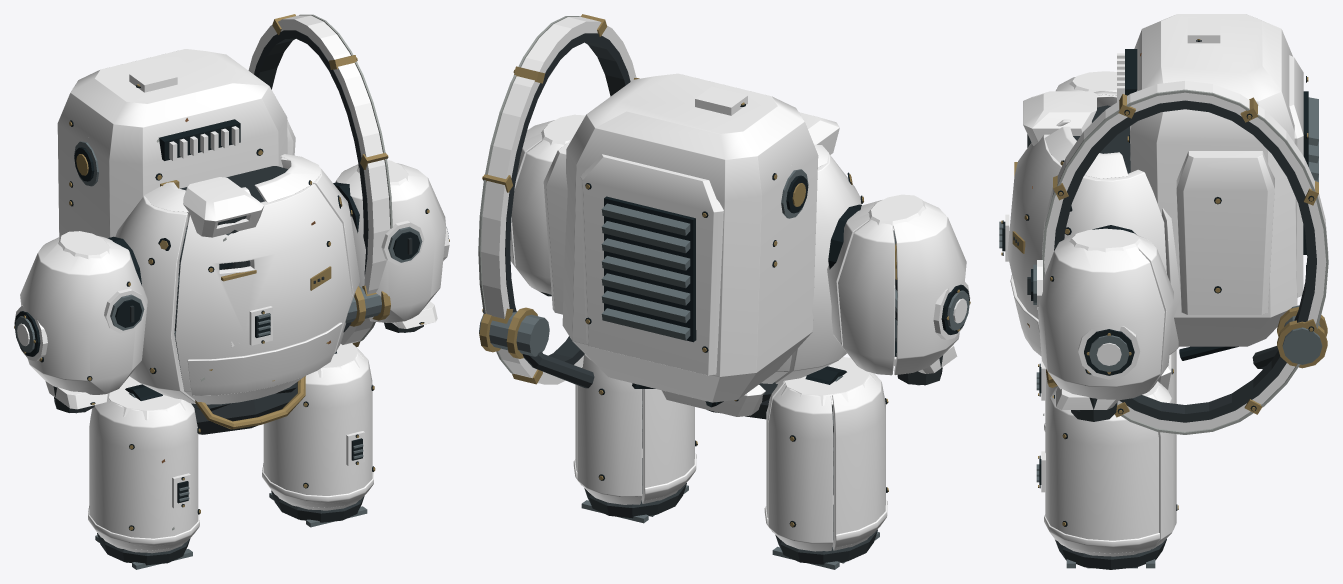
Rendered from mechanical-citizens-blue-barrel-heavy-v2.glb.
3 renders of one model, left to right at view 1: azimuth 30°, elevation 25°; view 2: azimuth 150°, elevation 25°; view 3: azimuth 270°, elevation 25°, orthographic. The views are drawn at different scales.
Visible parts, largest first — view 1: PLATE_power_backpack_main, PLATE_barrel_breastplate, PLATE_arm_pod.R, PLATE_leg_barrel.R, PLATE_leg_barrel.L, PLATE_arm_pod.L, PLATE_orange_back_hoop, PLATE_barrel_flank.R, CORE_chest, PLATE_buried_sensor_shroud, CORE_pelvis, PLATE_barrel_flank.L (+6 smaller); view 2: PLATE_power_backpack_main, PLATE_backpack_radiator_door, PLATE_arm_pod.R, PLATE_orange_back_hoop, PLATE_leg_barrel.R, PLATE_leg_rear_case.R, PLATE_leg_rear_case.L, CORE_chest, PLATE_arm_rear_strip.R, PLATE_barrel_flank.R, PLATE_leg_barrel.L, PLATE_arm_rear_strip.L (+7 smaller); view 3: PLATE_power_backpack_main, PLATE_arm_pod.L, PLATE_leg_barrel.L, PLATE_backpack_side_cassette, PLATE_orange_back_hoop, CORE_chest, PLATE_barrel_breastplate, PLATE_barrel_flank.L, PLATE_backpack_radiator_door, PLATE_buried_sensor_shroud, PLATE_leg_rear_case.L, PLATE_upper_collar.L (+7 smaller).
Part boxes in pixels (box(x1,y1,x2,y2)): PLATE_power_backpack_main: box(57, 49, 287, 238); PLATE_barrel_breastplate: box(175, 184, 351, 404); PLATE_arm_pod.R: box(14, 231, 147, 394); PLATE_leg_barrel.R: box(88, 376, 200, 553); PLATE_leg_barrel.L: box(262, 343, 375, 510); PLATE_arm_pod.L: box(335, 160, 449, 322); PLATE_orange_back_hoop: box(248, 14, 392, 346); PLATE_barrel_flank.R: box(115, 196, 195, 403); CORE_chest: box(174, 30, 390, 379); PLATE_buried_sensor_shroud: box(183, 177, 264, 237); CORE_pelvis: box(191, 376, 305, 434); PLATE_barrel_flank.L: box(281, 157, 359, 353); PLATE_power_backpack_main: box(562, 73, 818, 402); PLATE_backpack_radiator_door: box(580, 154, 723, 375); PLATE_arm_pod.R: box(827, 194, 970, 375); PLATE_orange_back_hoop: box(478, 14, 639, 384); PLATE_leg_barrel.R: box(764, 357, 888, 550); PLATE_leg_rear_case.R: box(768, 384, 833, 551); PLATE_leg_rear_case.L: box(577, 354, 642, 504); CORE_chest: box(479, 33, 723, 407); PLATE_arm_rear_strip.R: box(838, 220, 895, 375); PLATE_barrel_flank.R: box(775, 154, 863, 383); PLATE_leg_barrel.L: box(573, 384, 697, 503); PLATE_arm_rear_strip.L: box(511, 140, 563, 294); PLATE_power_backpack_main: box(1117, 14, 1297, 346); PLATE_arm_pod.L: box(1027, 228, 1164, 400); PLATE_leg_barrel.L: box(1036, 382, 1160, 556); PLATE_backpack_side_cassette: box(1176, 151, 1274, 314); PLATE_orange_back_hoop: box(1041, 81, 1328, 434); CORE_chest: box(1054, 100, 1327, 422); PLATE_barrel_breastplate: box(999, 134, 1061, 356); PLATE_barrel_flank.L: box(1064, 169, 1166, 273); PLATE_backpack_radiator_door: box(1289, 55, 1318, 297); PLATE_buried_sensor_shroud: box(1023, 91, 1096, 145); PLATE_leg_rear_case.L: box(1147, 381, 1178, 549); PLATE_upper_collar.L: box(1044, 126, 1128, 178).
Size of the model in its own units: 3.03 by 3.1 by 1.91.
